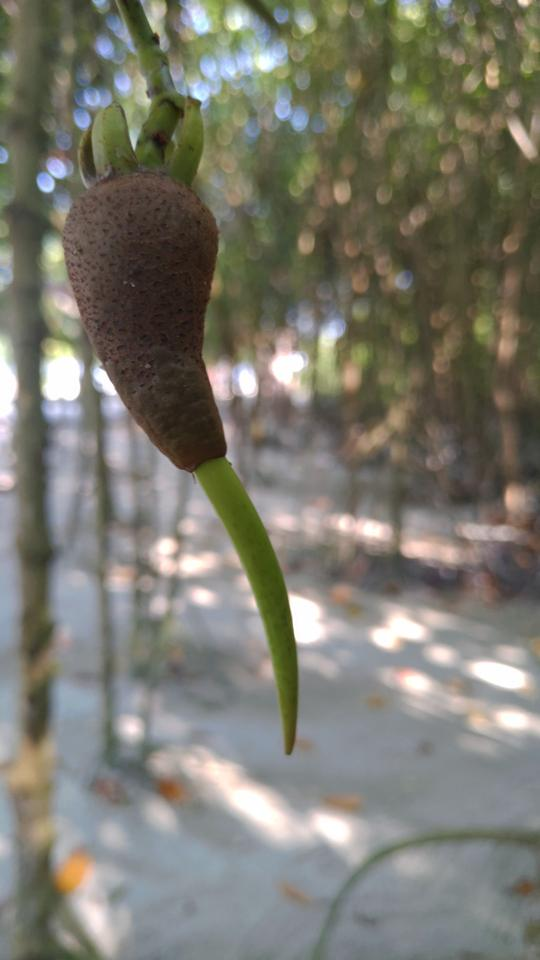mentah: (35, 74, 322, 769)
